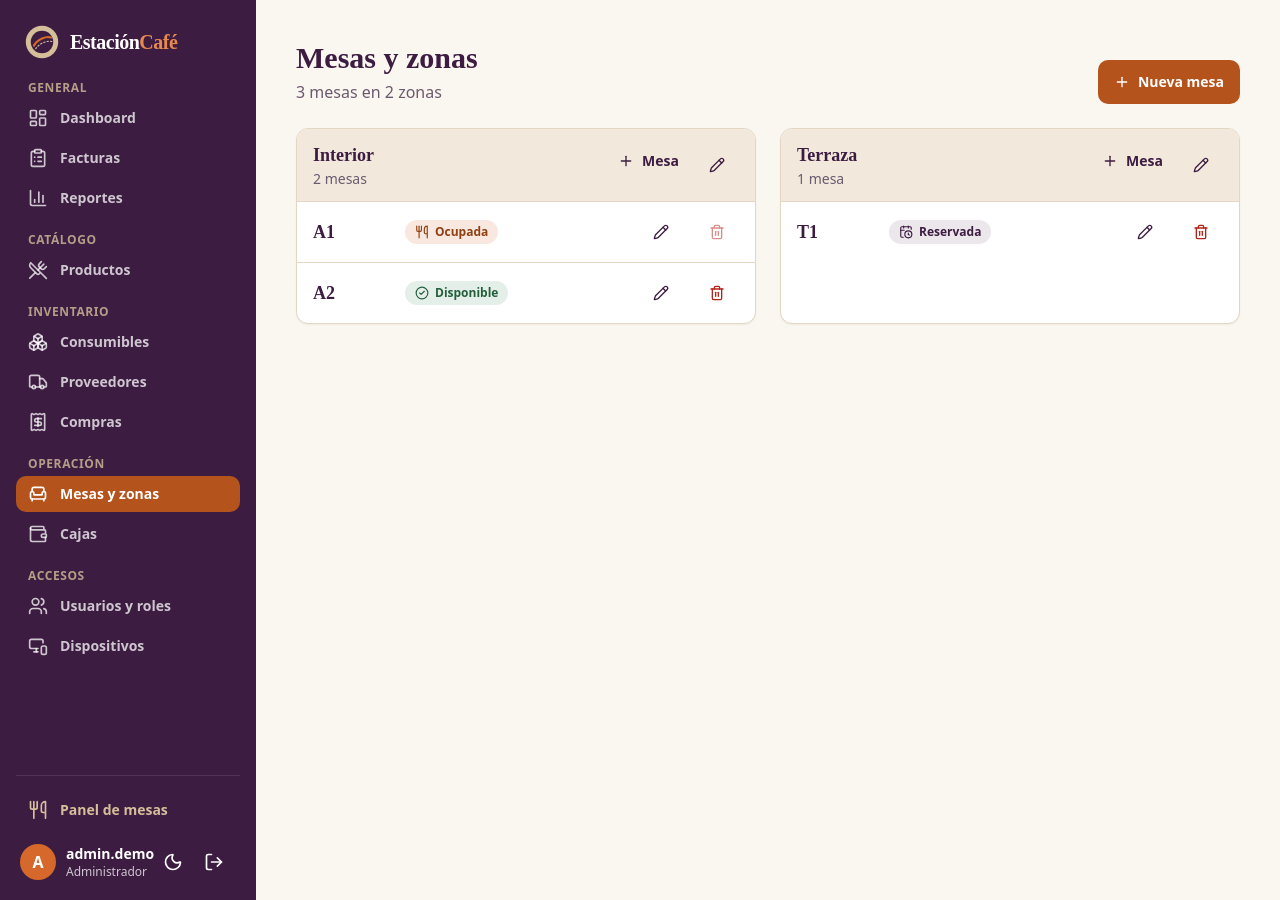
Scenario: Mesas y zonas (admin) › crea una mesa en mayúsculas y señala IDs repetidos
Click the button with aria-label "Agregar mesa en Terraza" at (1133, 161), box top-left (1090, 143), bottom-right (1175, 179)
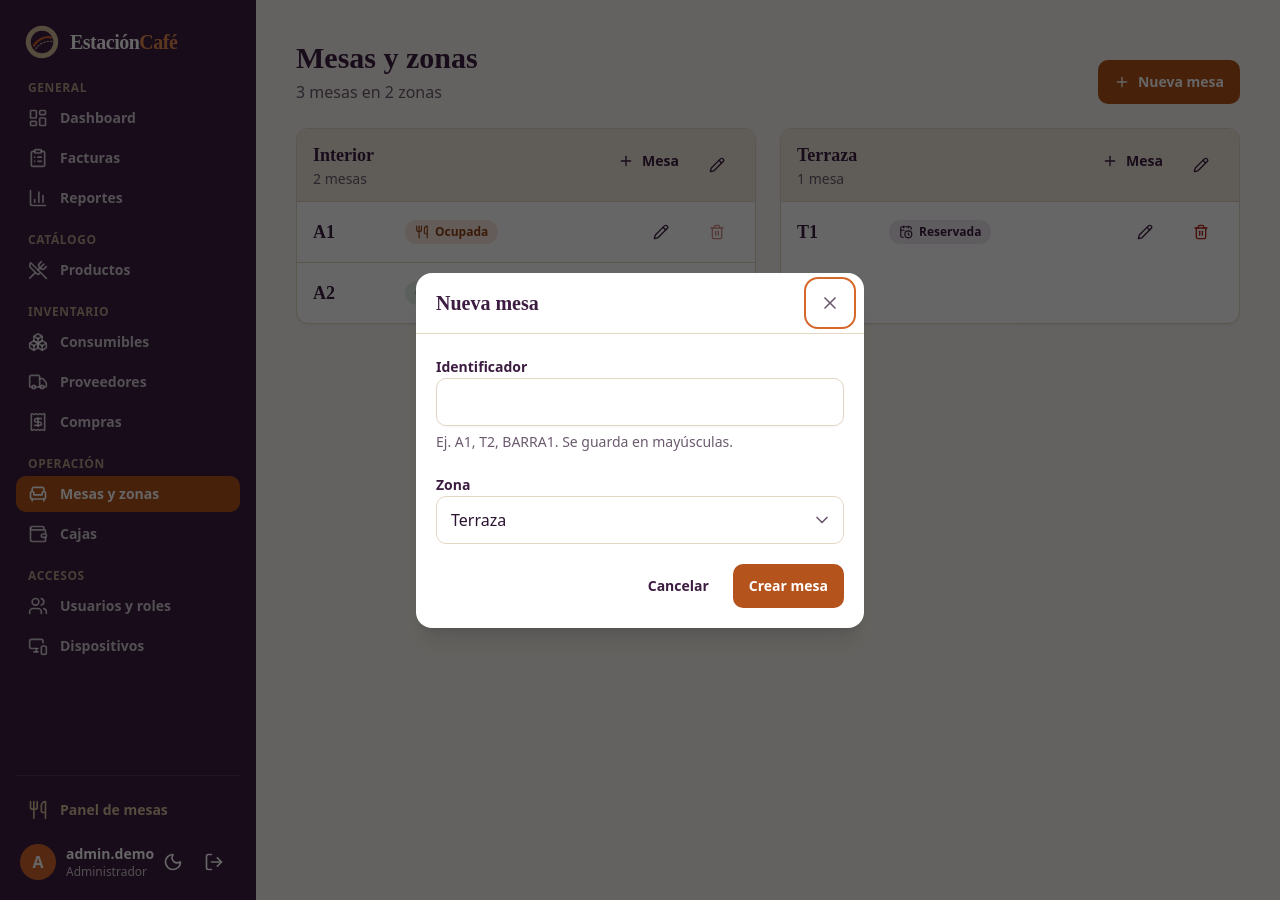
Check: the dropdown labelled "Zona" shows "Terraza", box top-left (436, 496), bottom-right (844, 544)
Type "t2" into the field labelled "Identificador" at (640, 402), box top-left (436, 378), bottom-right (844, 426)
Click the button "Crear mesa" at (788, 586), box top-left (733, 564), bottom-right (844, 608)
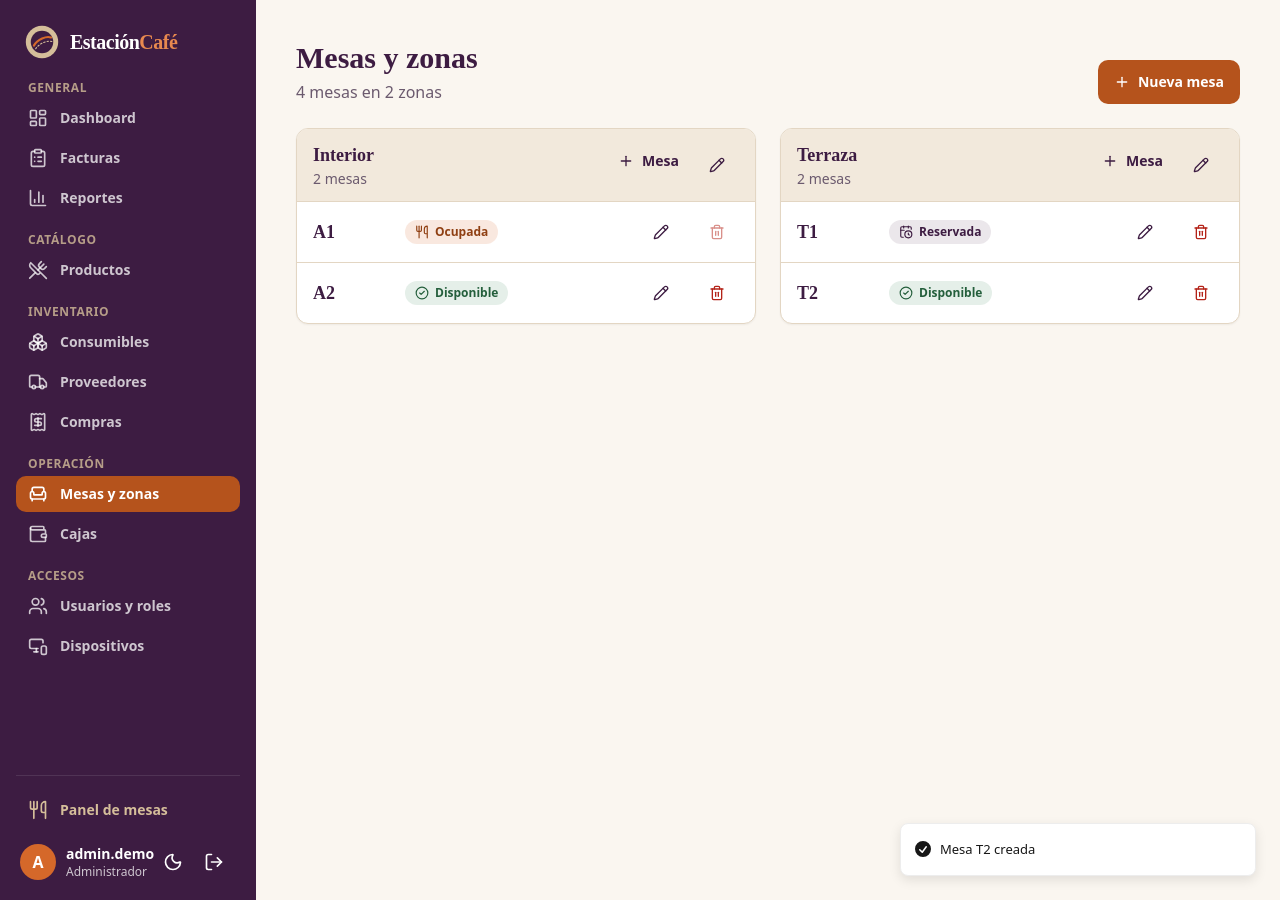
Check: the text "Mesa T2 creada" is shown, box top-left (940, 840), bottom-right (1035, 859)
Click the button "Nueva mesa" at (1169, 82), box top-left (1098, 60), bottom-right (1240, 104)
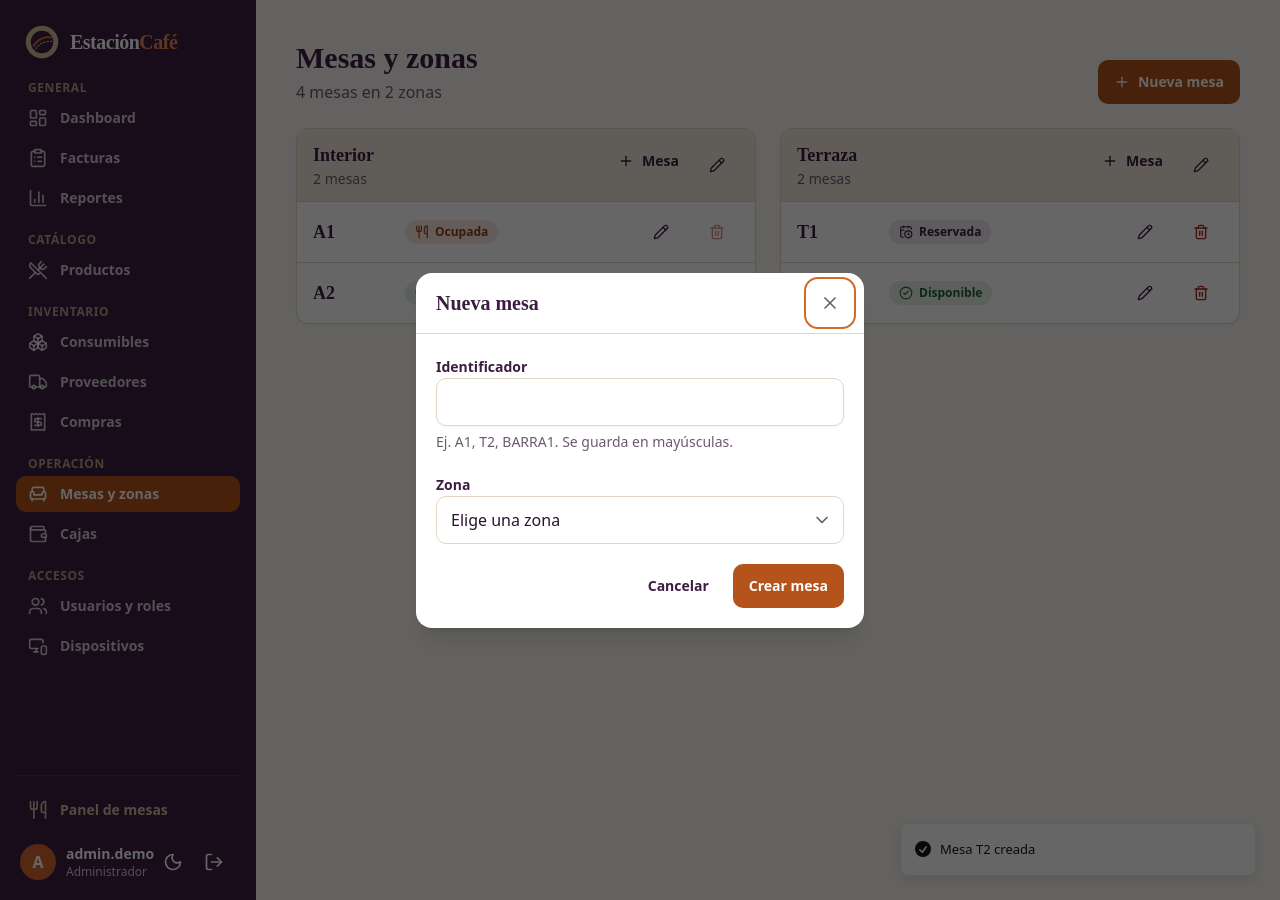
Type "A1" into the field labelled "Identificador" at (640, 402), box top-left (436, 378), bottom-right (844, 426)
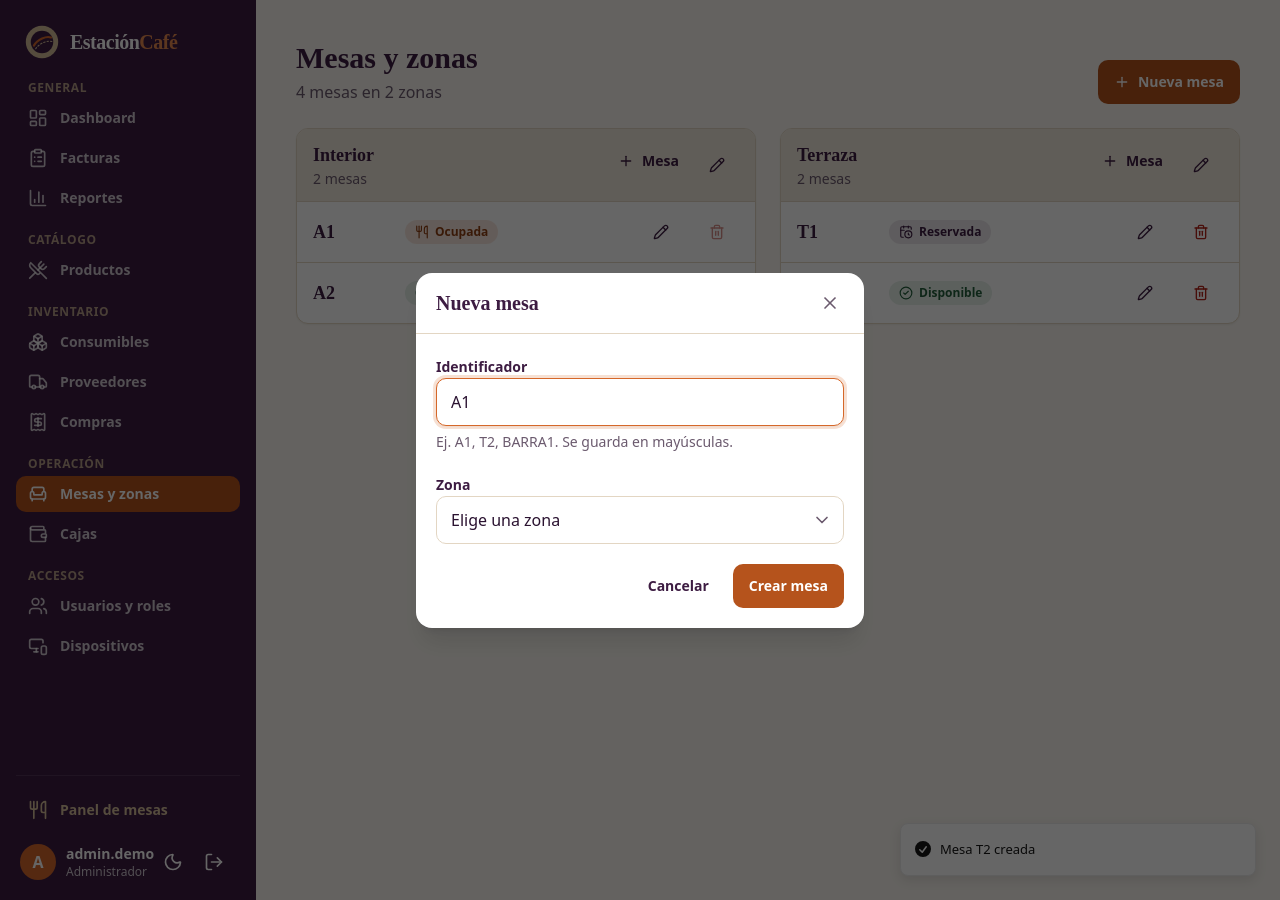
Select "Interior" in the dropdown labelled "Zona" at (640, 520), box top-left (436, 496), bottom-right (844, 544)
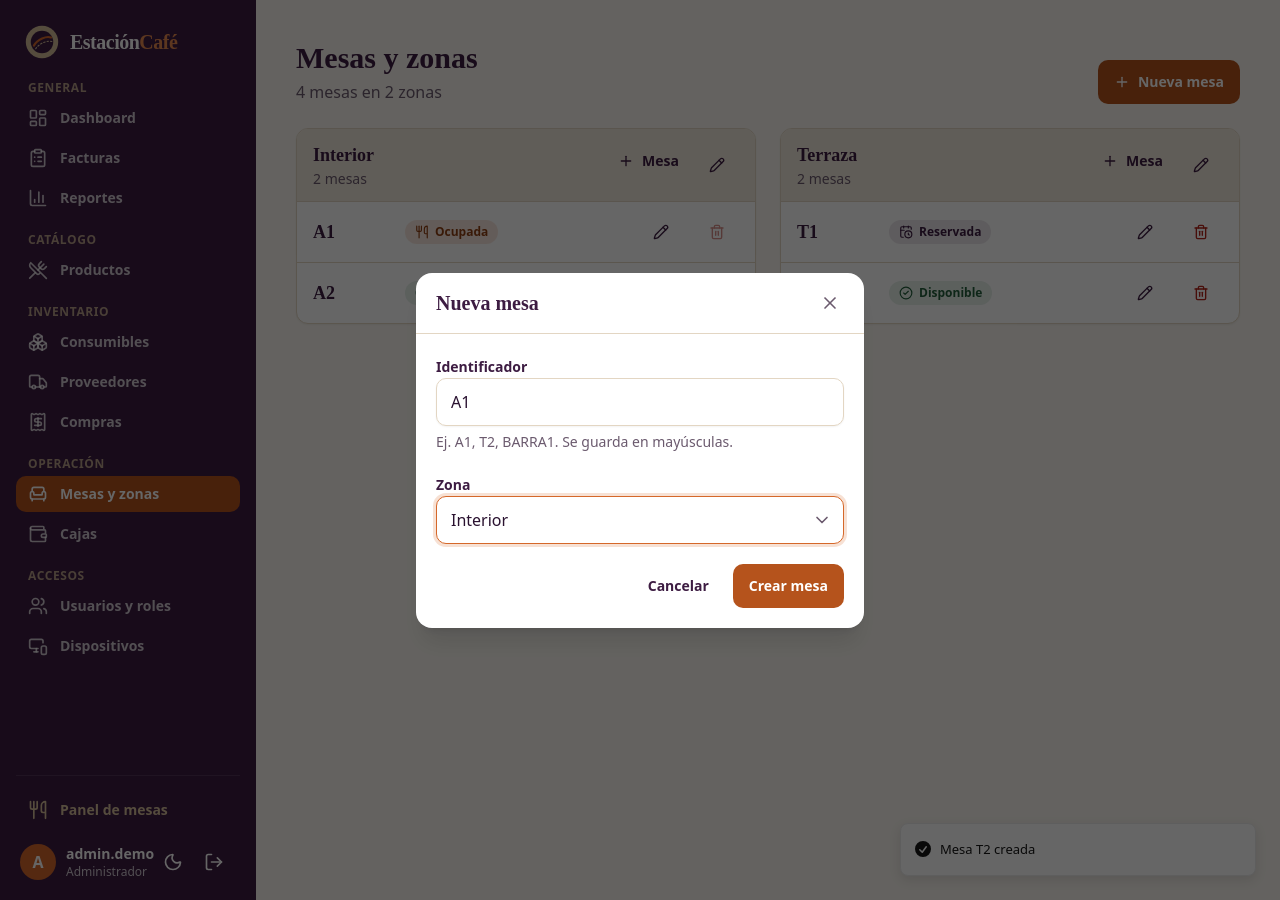
Click the button "Crear mesa" at (788, 586), box top-left (733, 564), bottom-right (844, 608)
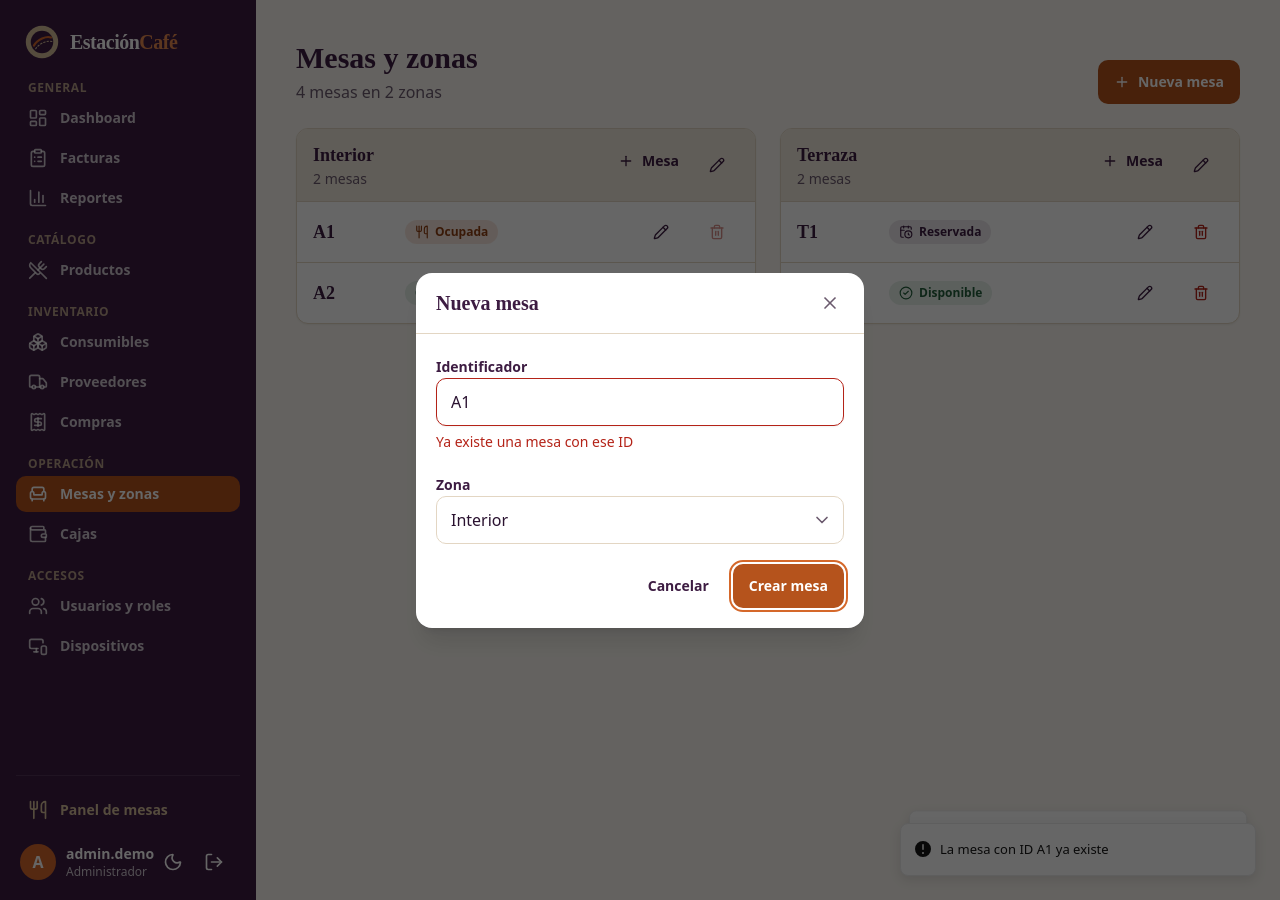
Check: the text "Ya existe una mesa con ese ID" is shown, box top-left (436, 432), bottom-right (633, 450)
